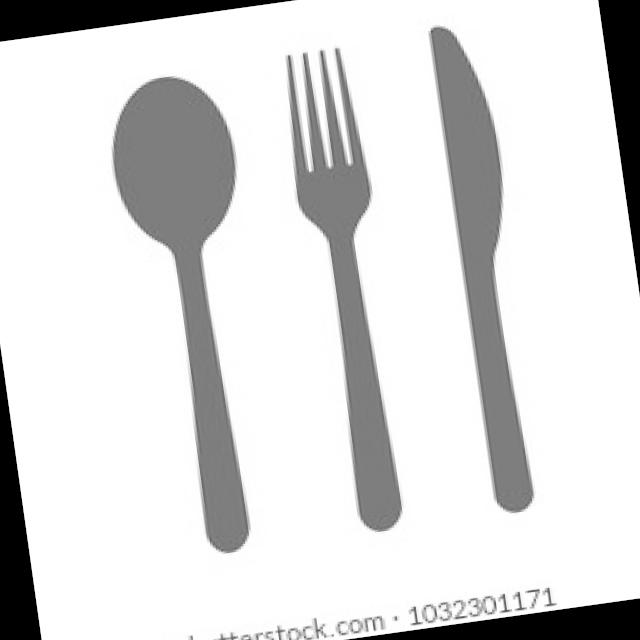fork: (273, 42, 422, 538)
